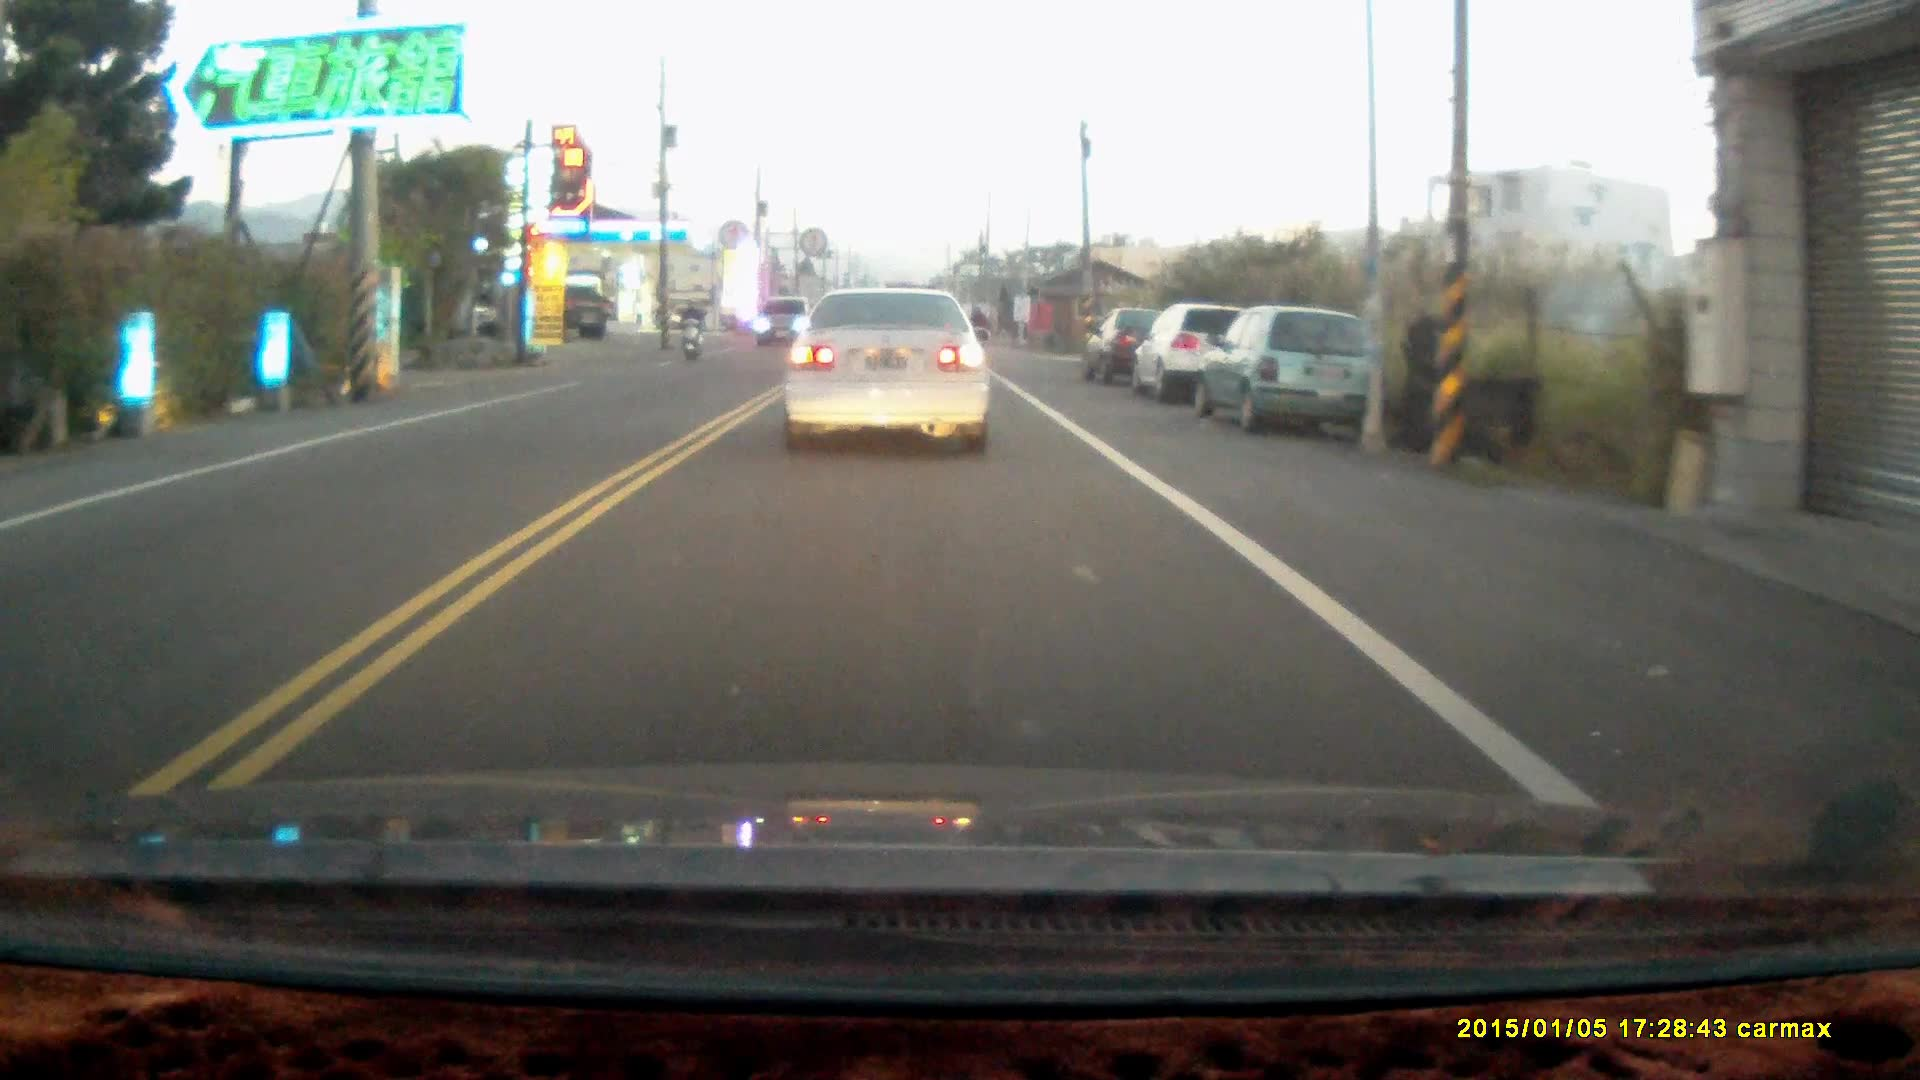rider: (677, 297, 704, 363)
vehicle: (784, 284, 995, 455), (1187, 306, 1385, 437), (1139, 305, 1263, 409), (1088, 307, 1185, 382), (756, 298, 820, 351)
